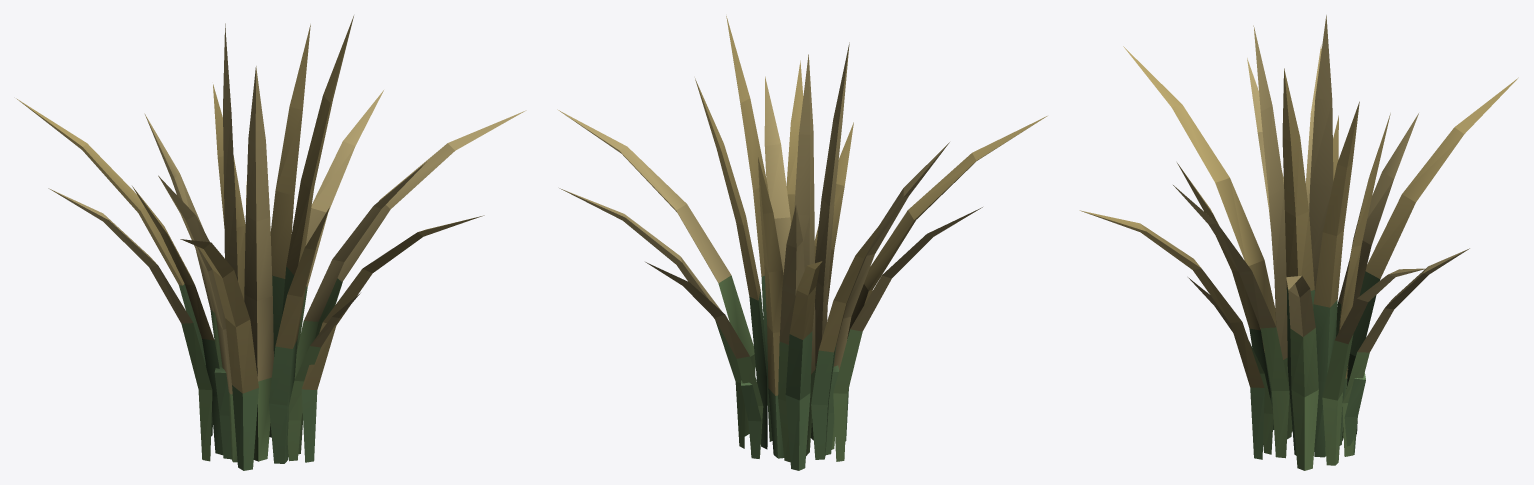
The model's file is tuft.glb.
The picture shows the model from 3 angles, left to right: view 1: azimuth 30°, elevation 25°; view 2: azimuth 150°, elevation 25°; view 3: azimuth 270°, elevation 25°; orthographic projection. The views are drawn at different scales.
Visible parts, largest first — view 1: tuft; view 2: tuft; view 3: tuft.
Part boxes in pixels (x1=…): tuft: x1=16, y1=16, x2=526, y2=470; tuft: x1=557, y1=16, x2=1047, y2=470; tuft: x1=1079, y1=15, x2=1518, y2=470.
Bounding box in the file's own units: 0.5415 × 0.4733 × 0.4524.
